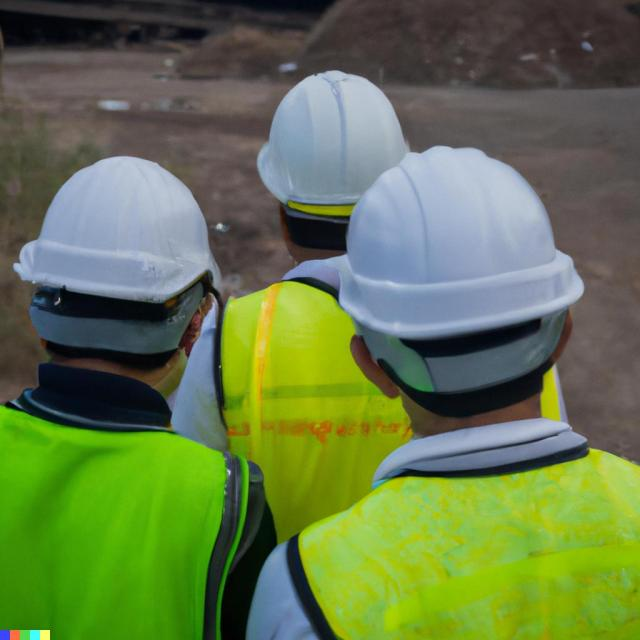Reflective-Jacket: (283, 432, 639, 636), (1, 408, 261, 638)
Safety-Helmet: (332, 145, 586, 339), (11, 152, 221, 297), (251, 66, 419, 216)
